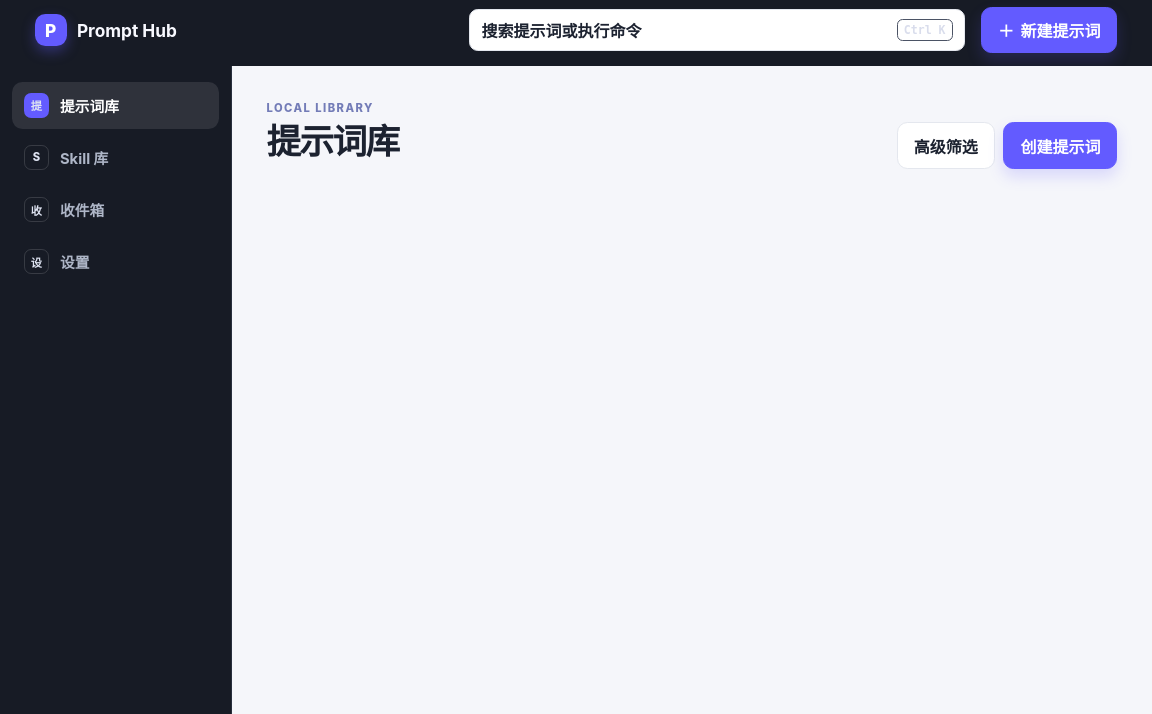
Test: App › opens local backup, diagnostics, and onboarding guidance from settings
This screenshot has width=1152, height=714.
Click the link "设 设置" at [36, 262], box [24,249,89,274]
(page scrolled)
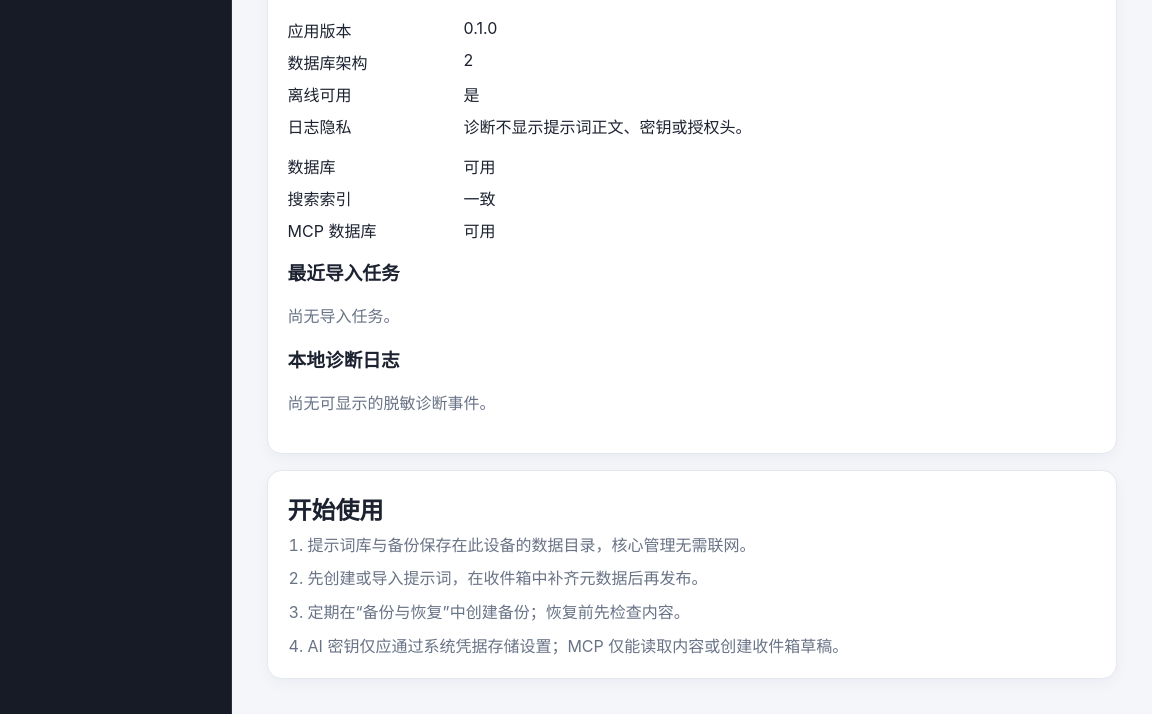
Expected: the heading "开始使用" is shown, [288,496,384,525]
